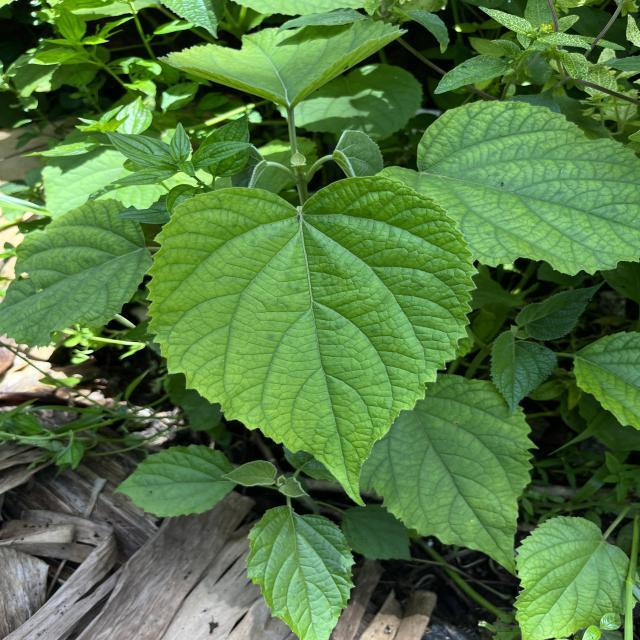Clerodendrum infortunatum: (142, 172, 484, 512), (374, 96, 640, 282), (357, 372, 539, 580), (0, 196, 153, 351)
